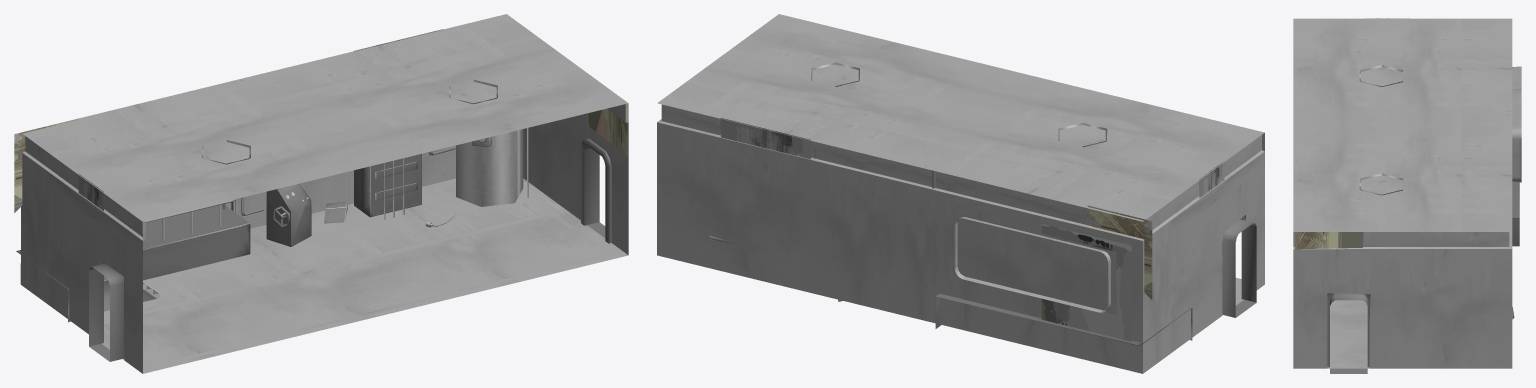
Rendered from MSH_QuestVault_L2_R2_optimized.fbx.
The picture shows the model from 3 angles, left to right: view 1: azimuth 30°, elevation 25°; view 2: azimuth 150°, elevation 25°; view 3: azimuth 270°, elevation 25°; orthographic projection. The views are drawn at different scales.
Visible parts, largest first — view 1: lightmap2, lightmap0, lightmap1, MSH_QuestVault_L2_R2_Dirt_01; view 2: lightmap1, lightmap2, lightmap0, MSH_QuestVault_L2_R2_Dirt_01; view 3: lightmap2, lightmap1, lightmap0, MSH_QuestVault_L2_R2_Dirt_01.
Boxes of the visible parts, x1,y1,x2,y2 form: lightmap2: (16,14,628,322); lightmap0: (89,79,628,373); lightmap1: (20,103,628,373); MSH_QuestVault_L2_R2_Dirt_01: (14,29,628,264); lightmap1: (657,104,1264,373); lightmap2: (657,14,1264,346); lightmap0: (811,62,1256,317); MSH_QuestVault_L2_R2_Dirt_01: (720,118,1224,341); lightmap2: (1293,18,1519,319); lightmap1: (1293,232,1512,368); lightmap0: (1327,65,1521,373); MSH_QuestVault_L2_R2_Dirt_01: (1294,18,1409,249).
Size of the model in its own units: 20.6 by 6.04 by 8.89.
Materials: 4 (4 with a texture image).
